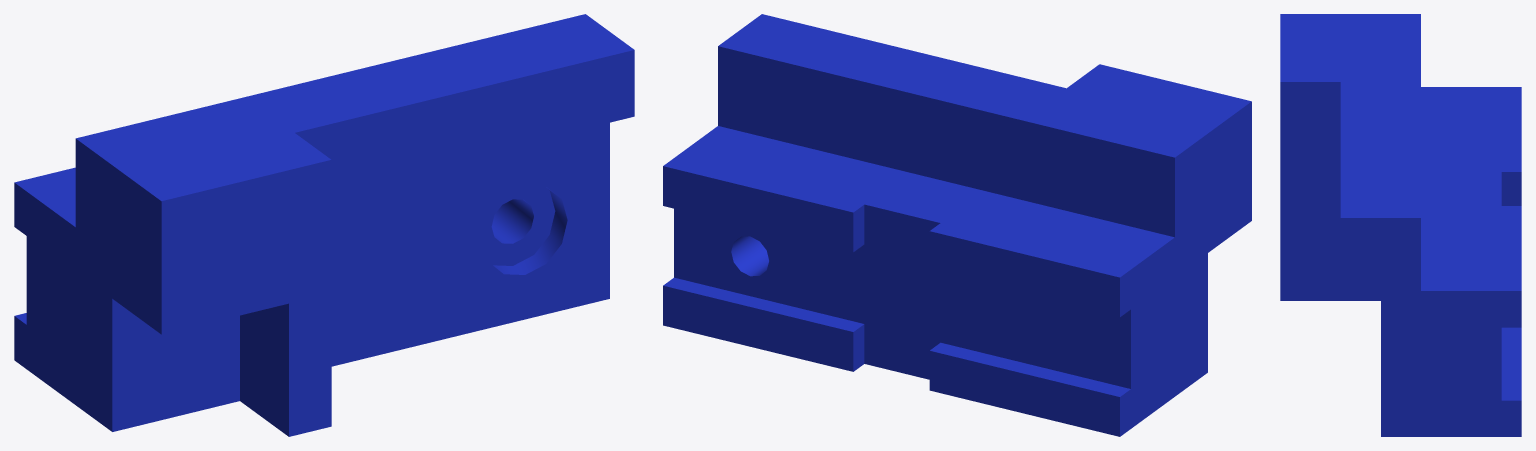
Rendered from peca5.glb.
3 renders of one model, left to right at view 1: azimuth 30°, elevation 25°; view 2: azimuth 150°, elevation 25°; view 3: azimuth 270°, elevation 25°, orthographic. The views are drawn at different scales.
Parts seen in each view (by area): view 1: 3D_Solid; view 2: 3D_Solid; view 3: 3D_Solid.
Part boxes in pixels (box(x1,y1,x2,y2)): 3D_Solid: box(14, 14, 634, 436); 3D_Solid: box(663, 14, 1251, 436); 3D_Solid: box(1280, 14, 1521, 436).
Bounding box in the file's own units: 120 × 60 × 60.
